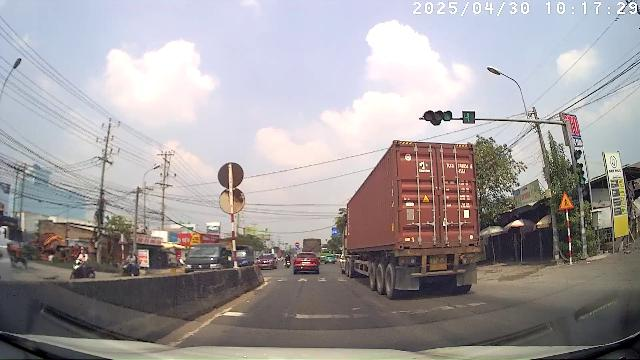102-cam-di-nguoc-chieu: (295, 242, 300, 246)
302a-huong-phai-di-vong-chuong-ngai-vat-1: (295, 247, 300, 251)
